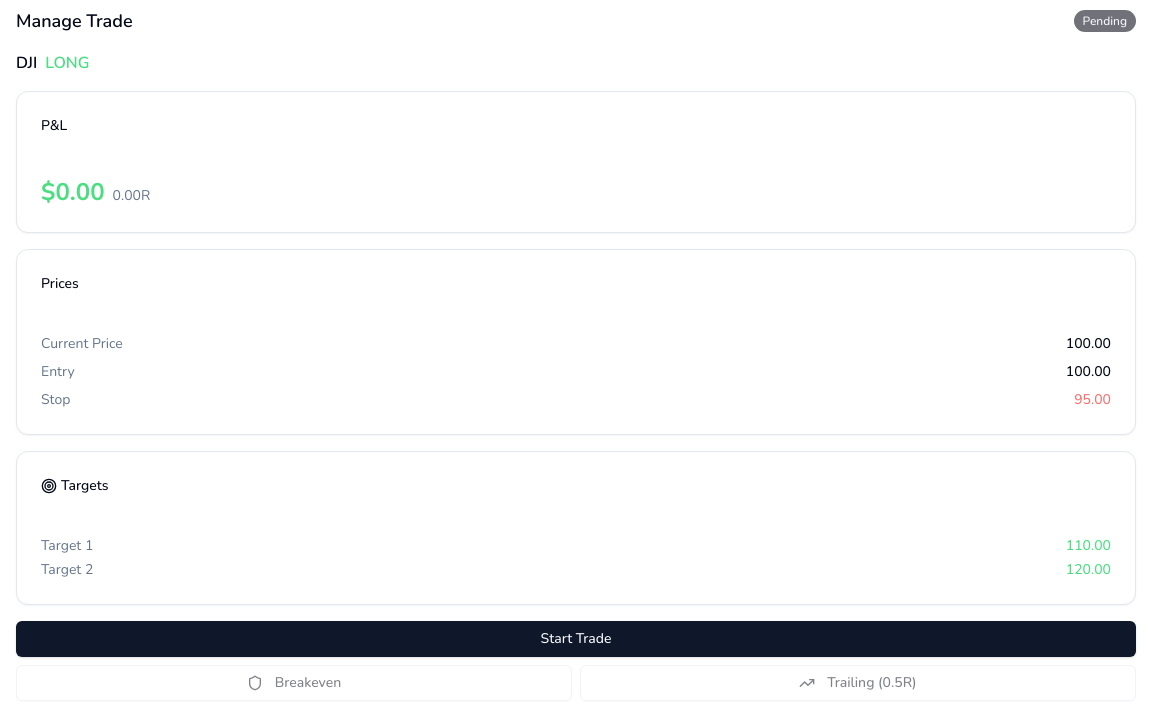
Test case: ManagePanel › close trade button › should show closed status after closing
Click the button "Start Trade".
click(576, 639)  # box [16, 621, 1136, 657]
(page scrolled)
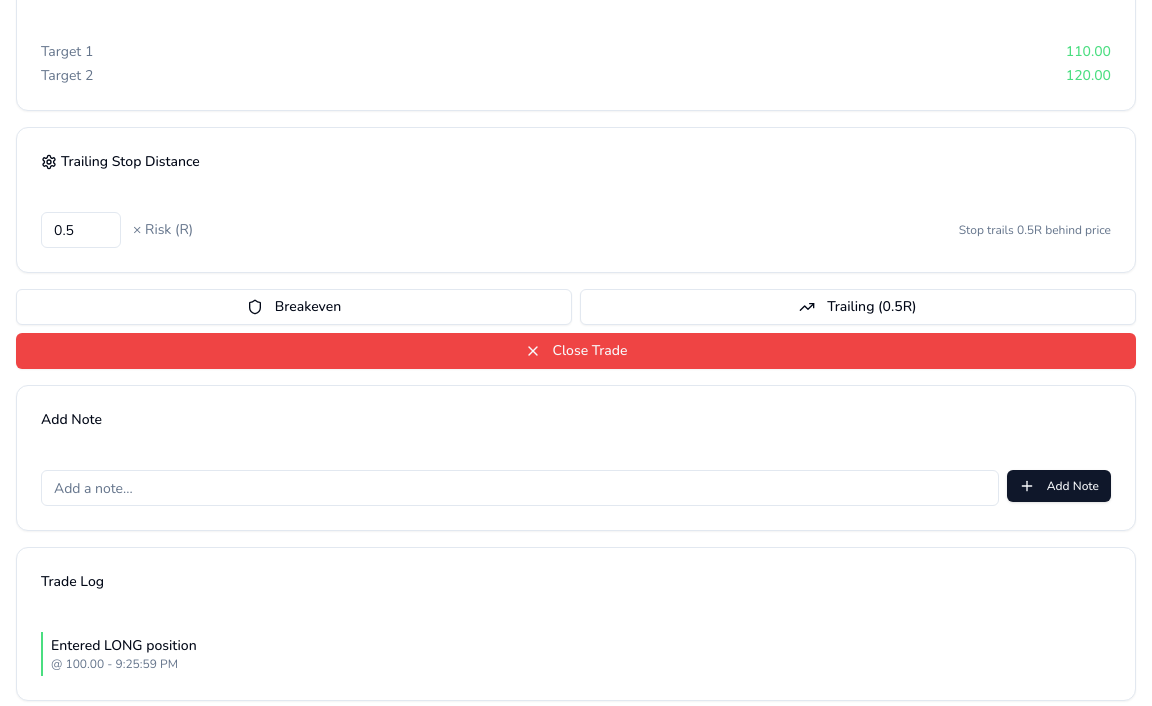
Click the button "Close Trade".
click(576, 351)  # box [16, 333, 1136, 369]
(page scrolled)
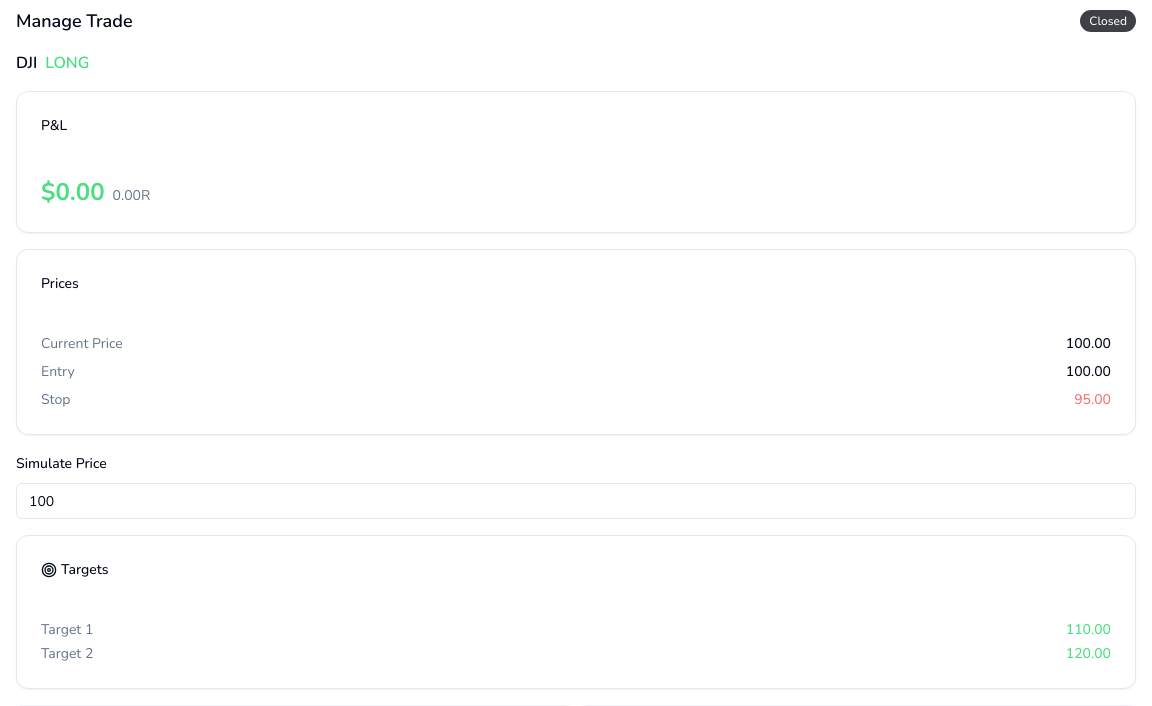
expect the text "Closed" is shown: met, box [1080, 10, 1136, 32]
